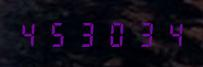five: (45, 20, 72, 47)
four: (17, 20, 44, 47), (158, 20, 185, 47)
three: (74, 20, 101, 47), (130, 20, 157, 47)
zero: (102, 20, 129, 47)
